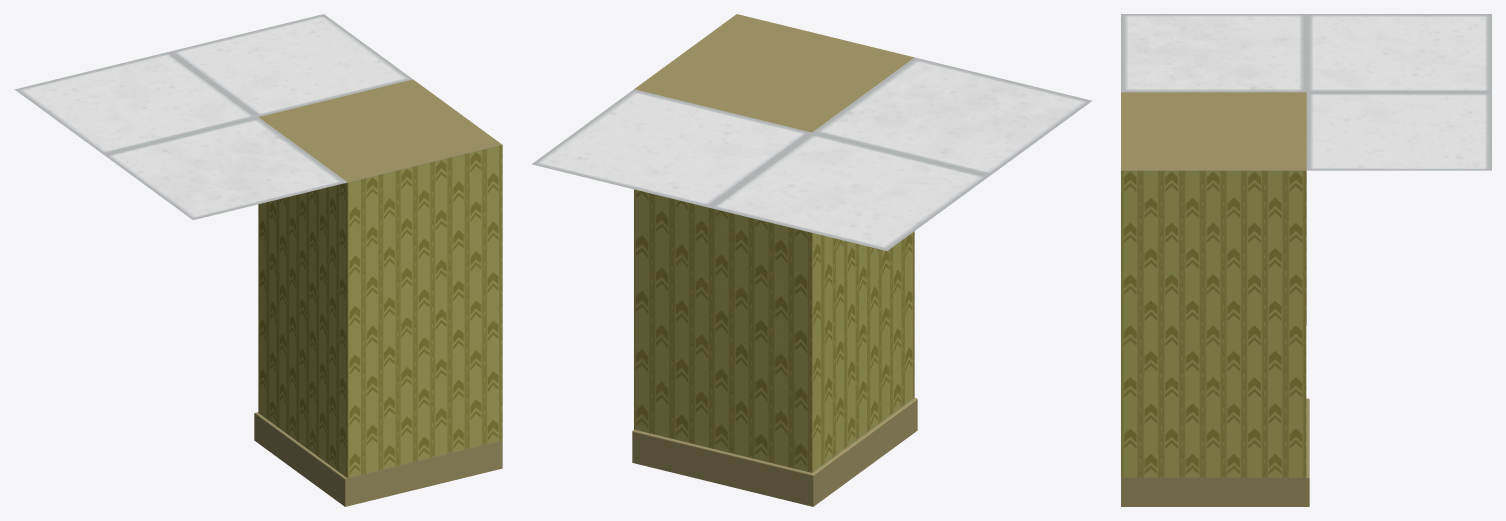
File: Backrooms Tiles.fbx_Corner-Pillar-Half.fbx
3 views of the same model, side by side, from view 1: azimuth 30°, elevation 25°; view 2: azimuth 150°, elevation 25°; view 3: azimuth 270°, elevation 25° (orthographic). The views are drawn at different scales.
Parts seen in each view (by area): view 1: Corner-Pillar-Half, Corner-Pillar-Half-CeilingTile; view 2: Corner-Pillar-Half, Corner-Pillar-Half-CeilingTile; view 3: Corner-Pillar-Half, Corner-Pillar-Half-CeilingTile.
Boxes of the visible parts, <box> form: Corner-Pillar-Half: <box>254,79,502,506</box>; Corner-Pillar-Half-CeilingTile: <box>14,14,412,220</box>; Corner-Pillar-Half: <box>632,14,917,506</box>; Corner-Pillar-Half-CeilingTile: <box>532,57,1092,250</box>; Corner-Pillar-Half: <box>1121,92,1309,506</box>; Corner-Pillar-Half-CeilingTile: <box>1121,14,1491,170</box>.
Size of the model in its own units: 200 by 200 by 200.
